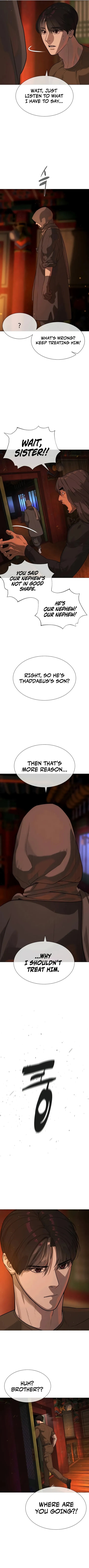bubbles: (0, 560, 88, 630), (1, 311, 86, 361), (11, 653, 77, 702), (13, 743, 76, 794), (12, 935, 76, 985), (15, 69, 75, 117), (4, 423, 62, 472), (24, 1485, 87, 1530), (4, 1369, 51, 1403)
